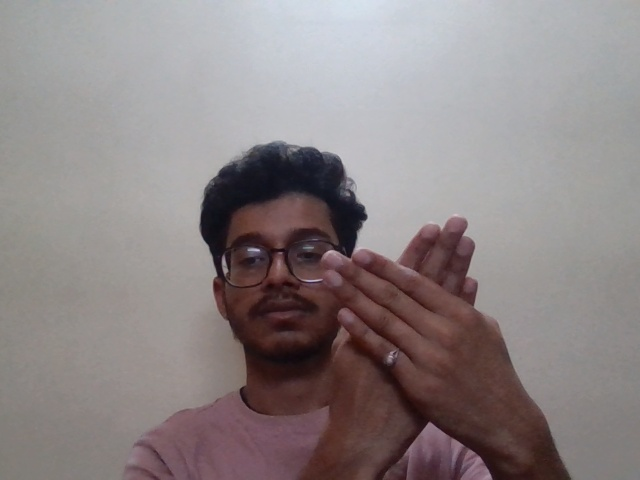what: (317, 209, 539, 449)
